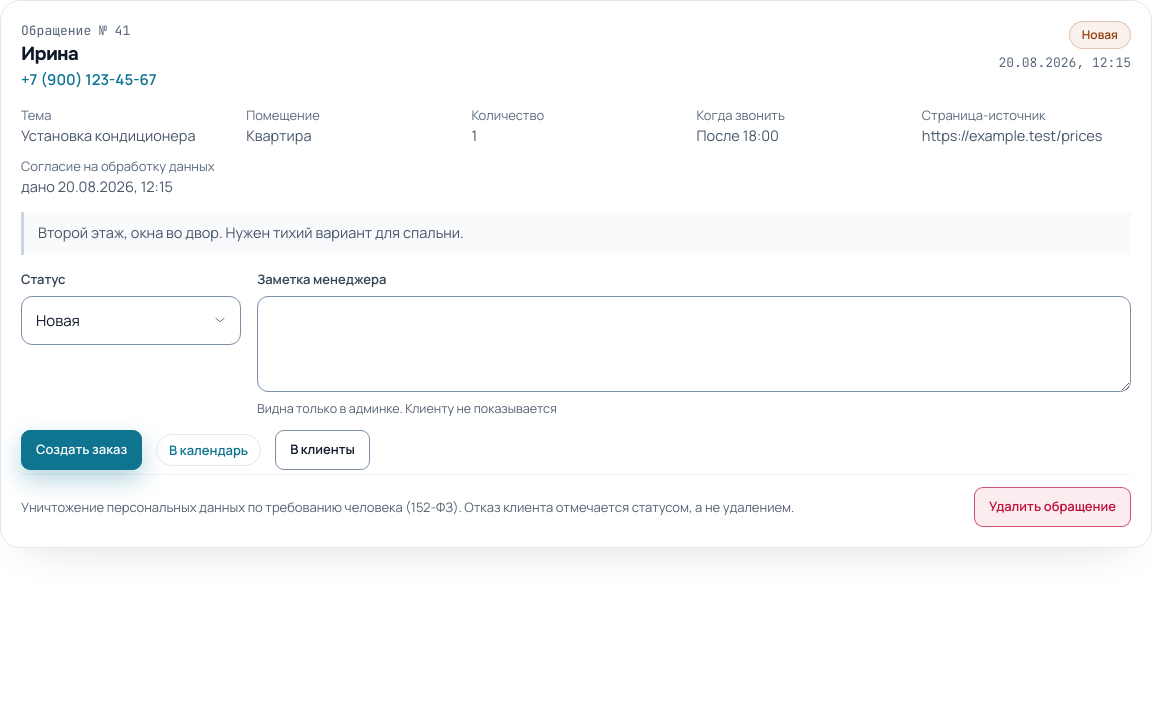
Test case: Карточка заявки › отказ сервера показывается человеку, а не теряется
What coordinates should you click on to do the following:
click the button "В клиенты"
I would click on:
 (322, 450)
Its box is 275,430 -> 370,470.
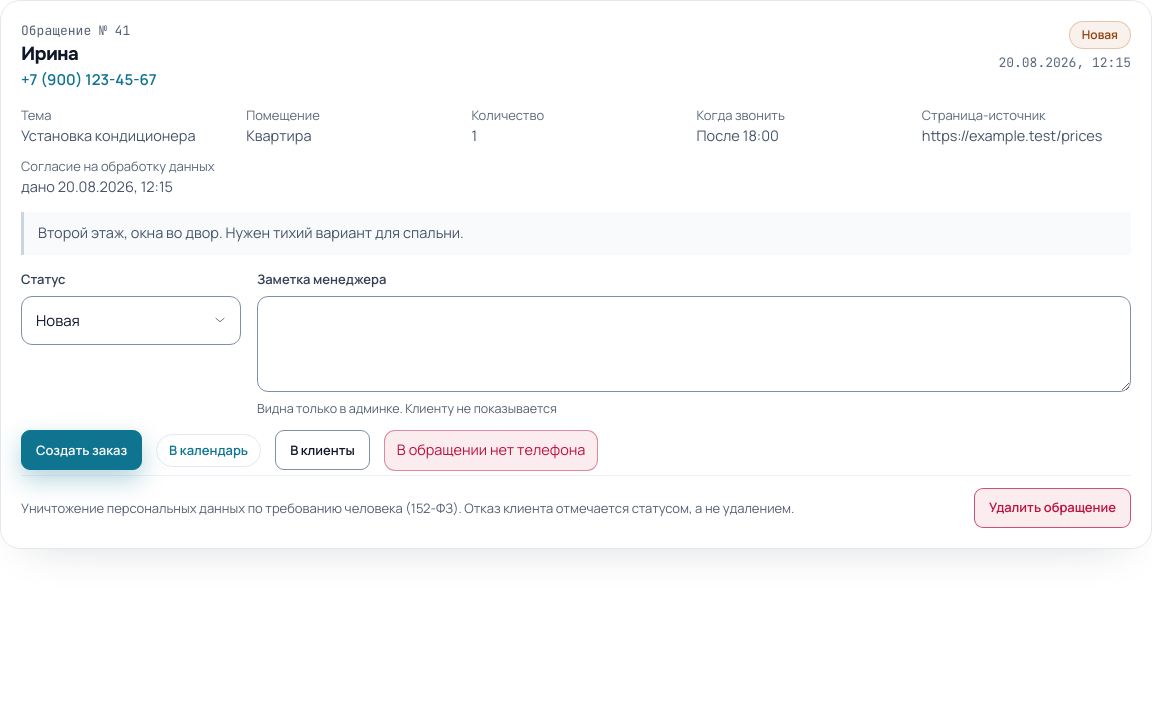
Now the message reads "В обращении нет телефона", box 397,440 -> 585,459
